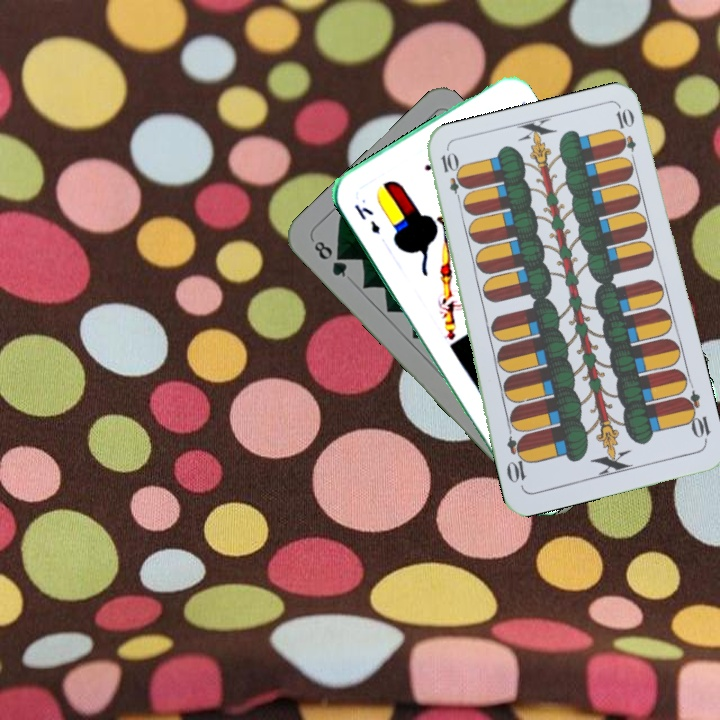E10: (677, 387, 713, 446), (437, 148, 466, 207)
EK: (350, 199, 383, 237)
G8: (309, 236, 350, 280)
